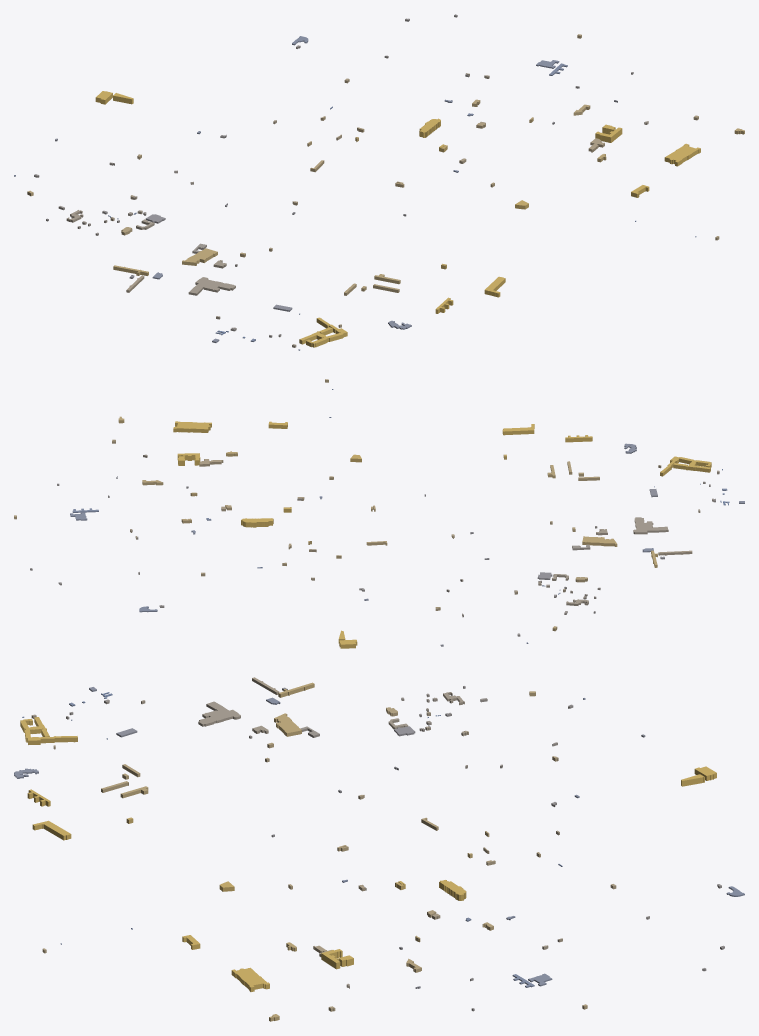
3 renders of one model, top to bottom at view 1: azimuth 30°, elevation 25°; view 2: azimuth 150°, elevation 25°; view 3: azimuth 270°, elevation 25°, orthographic. The views are drawn at different scales.
Visible parts, largest first — view 1: lod2; view 2: lod2; view 3: lod2.
Boxes of the visible parts, x1,y1,x2,y2 form: lod2: (14, 14, 744, 350); lod2: (14, 379, 744, 648); lod2: (14, 677, 744, 1021).
Bounding box in the file's own units: 2270 × 28.82 × 2047.
